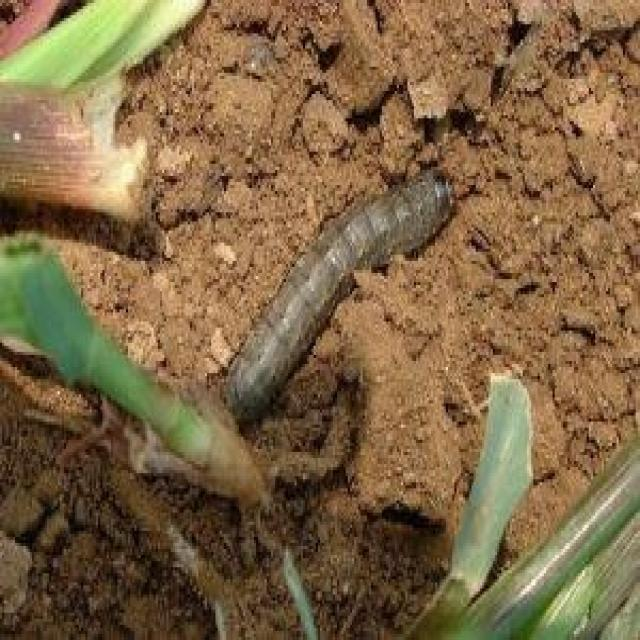black cutworm: (222, 160, 459, 412)
